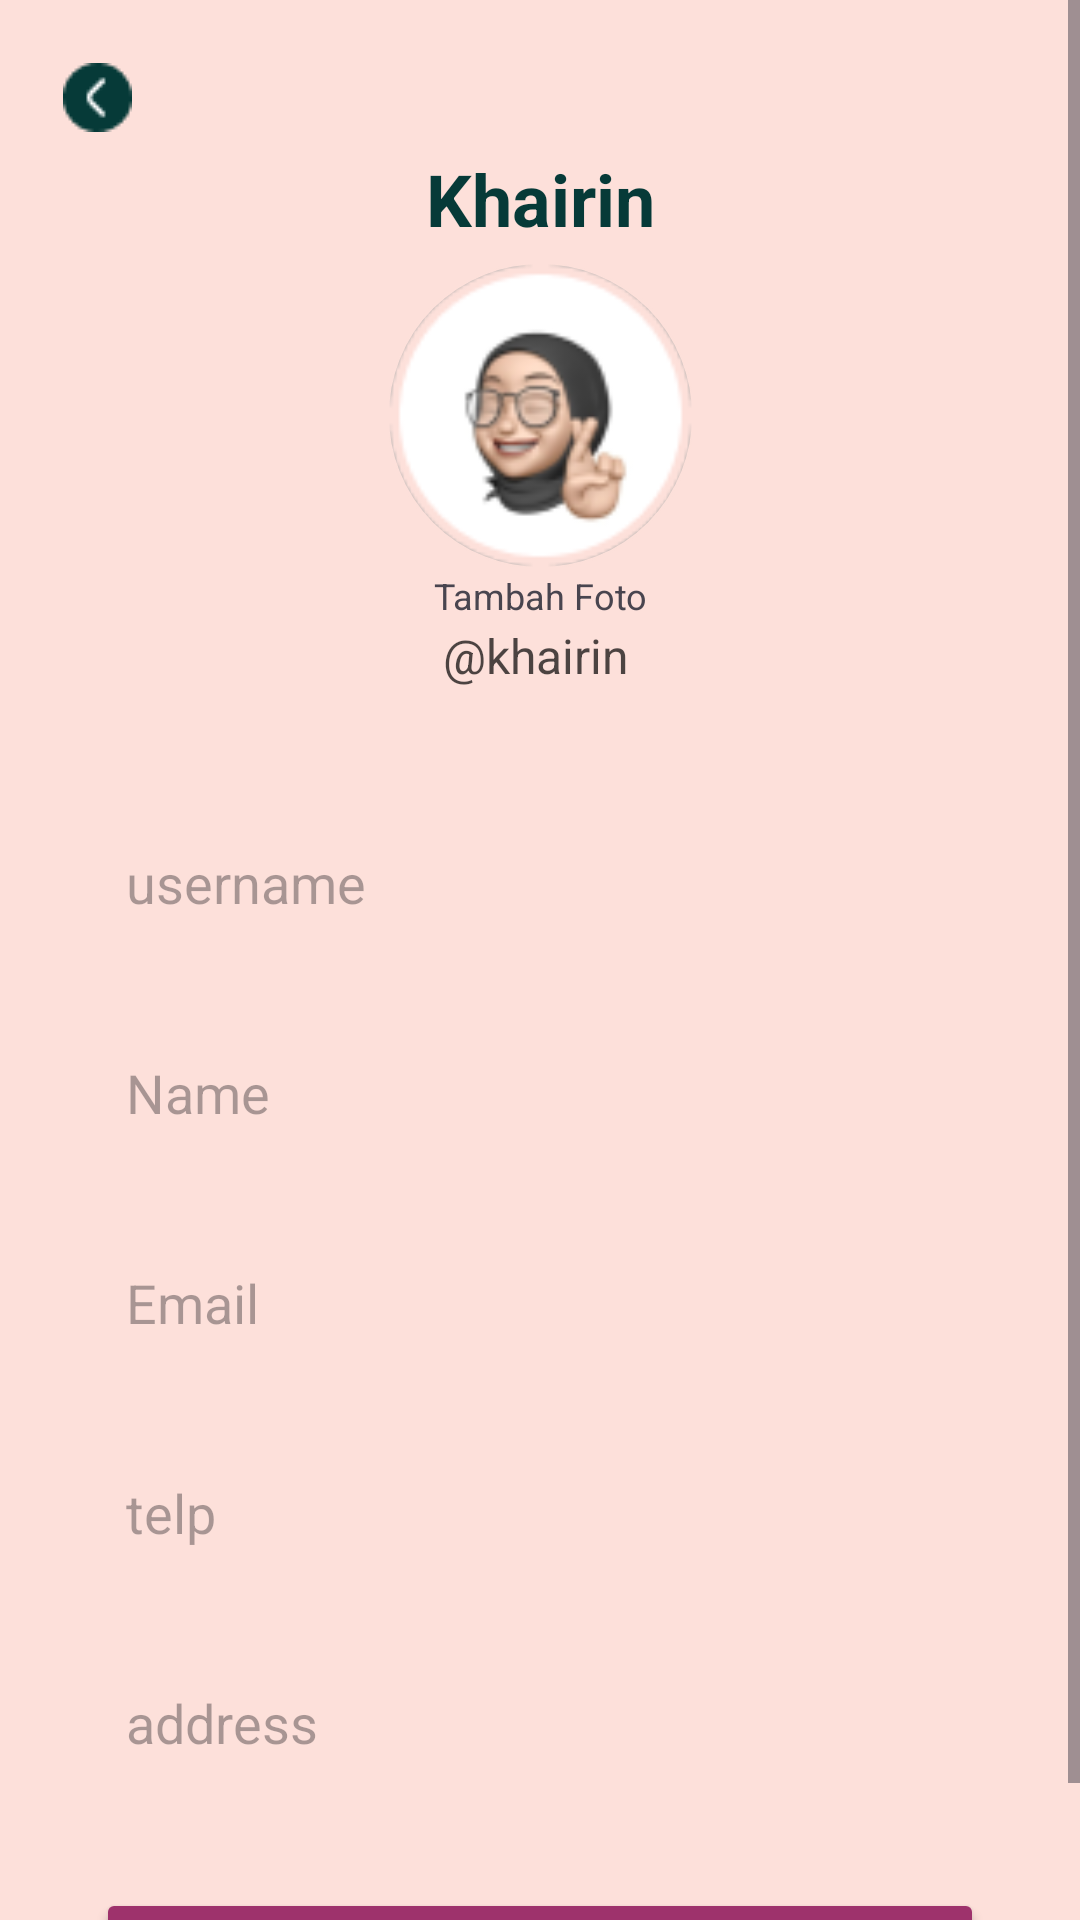

Screen size 1080w x 1920h. Icon name, then its center in pixels as [x,y]:
back: [97,97]
profile: [540,415]
